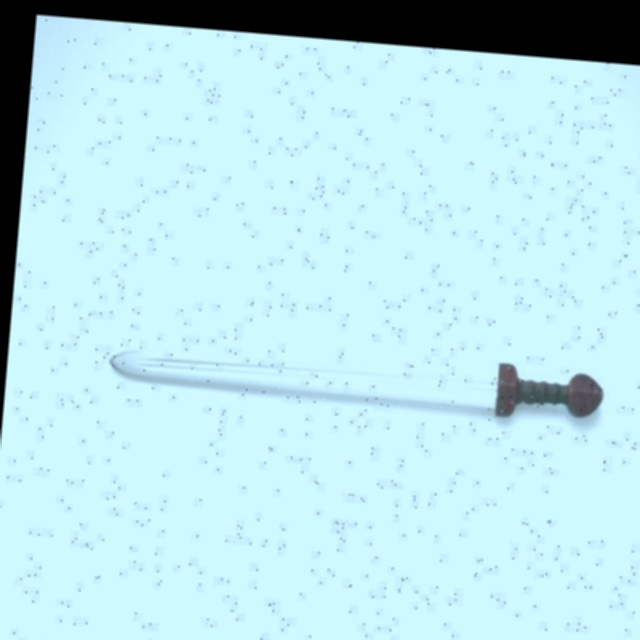Sharp-Object: (110, 334, 603, 428)
